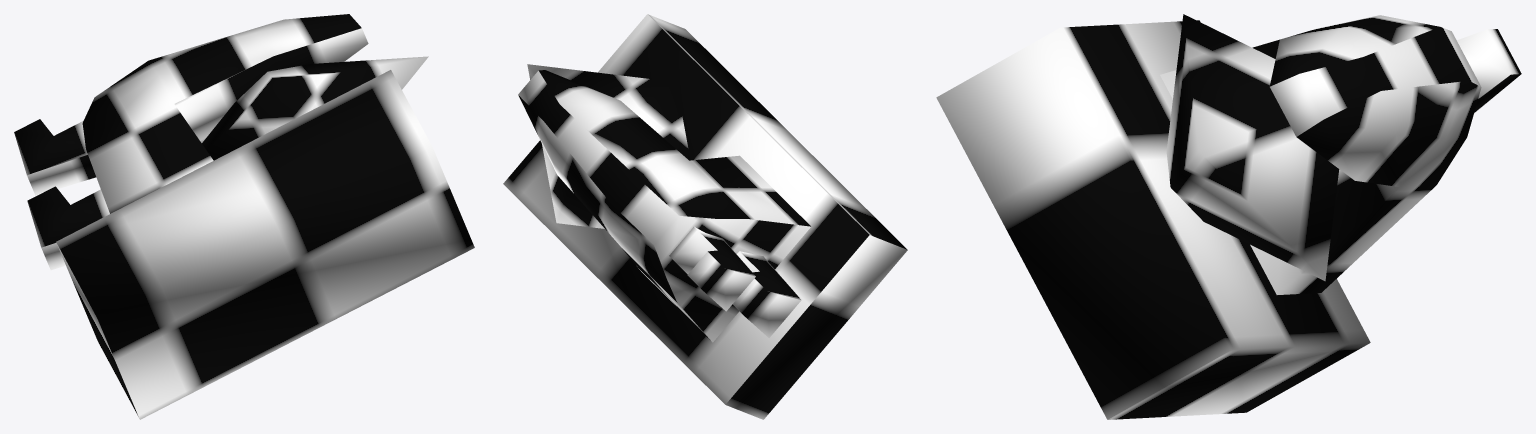
Rendered from initqu39.dae.
The picture shows the model from 3 angles, left to right: view 1: azimuth 30°, elevation 25°; view 2: azimuth 150°, elevation 25°; view 3: azimuth 270°, elevation 25°; orthographic projection. The views are drawn at different scales.
Visible parts, largest first — view 1: item; view 2: item; view 3: item.
Boxes of the visible parts, x1,y1,x2,y2 form: item: [14, 14, 474, 419]; item: [503, 14, 907, 419]; item: [936, 14, 1521, 419].
Size of the model in its own units: 1.58 by 1.38 by 1.36.
1 material, 1 textured.
